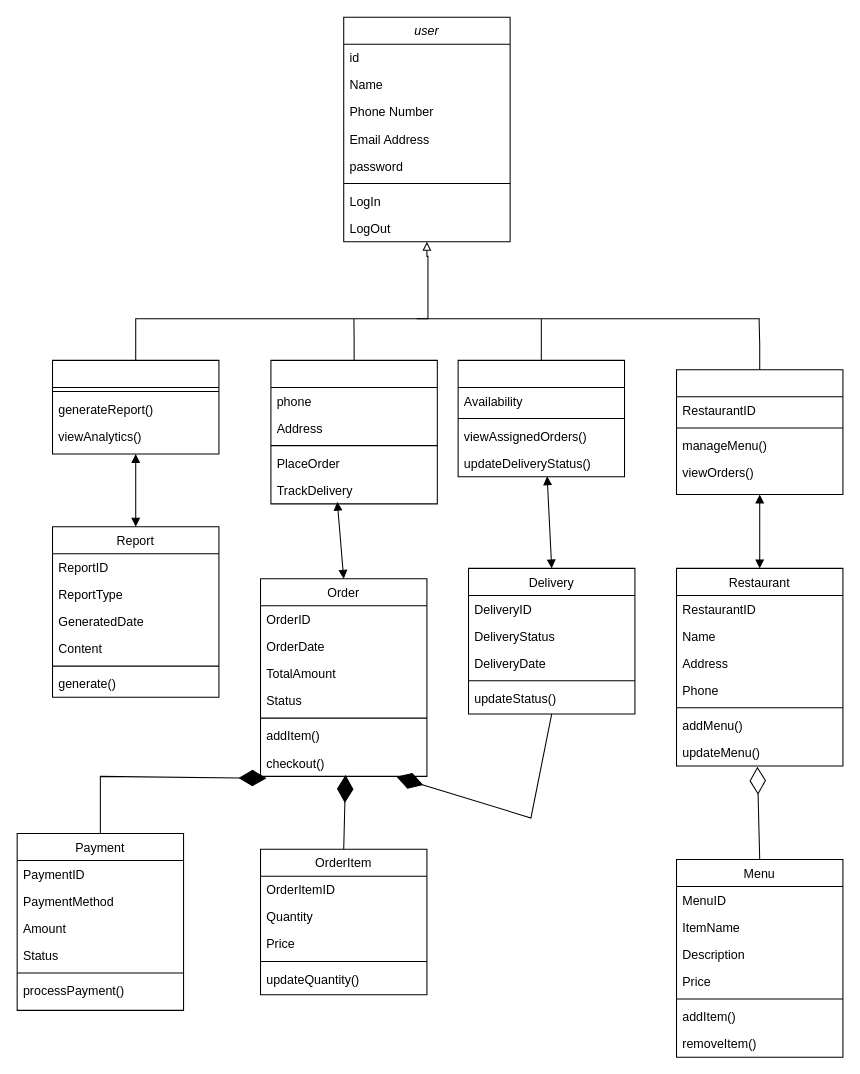
The diagram is 860 pixels wide and 1074 high, and some of its shapes have lost their labels. Each missing label, with the box of its shape:
Admin: (51, 359, 219, 454)
Customer: (270, 359, 437, 504)
DeliveryAgent: (457, 359, 625, 477)
RestaurantOwner: (675, 369, 843, 495)
